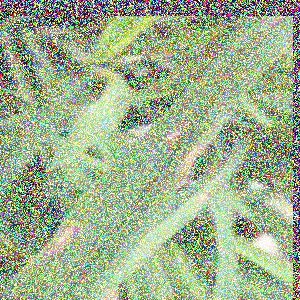Brown_Spot: (11, 212, 97, 267), (169, 140, 214, 182), (143, 110, 194, 147)
